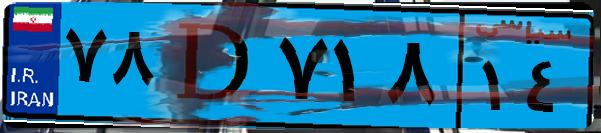1: (330, 28, 385, 110), (475, 38, 525, 113)
4: (525, 38, 570, 115)
7: (270, 28, 330, 110), (57, 26, 110, 100)
8: (385, 28, 445, 110), (110, 28, 158, 98)
D: (158, 12, 270, 120)
